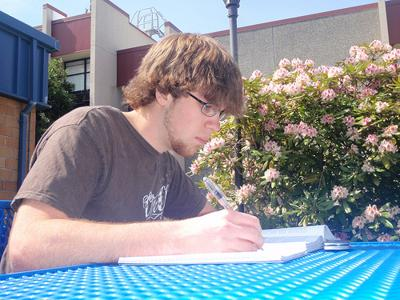person: (2, 33, 266, 273)
